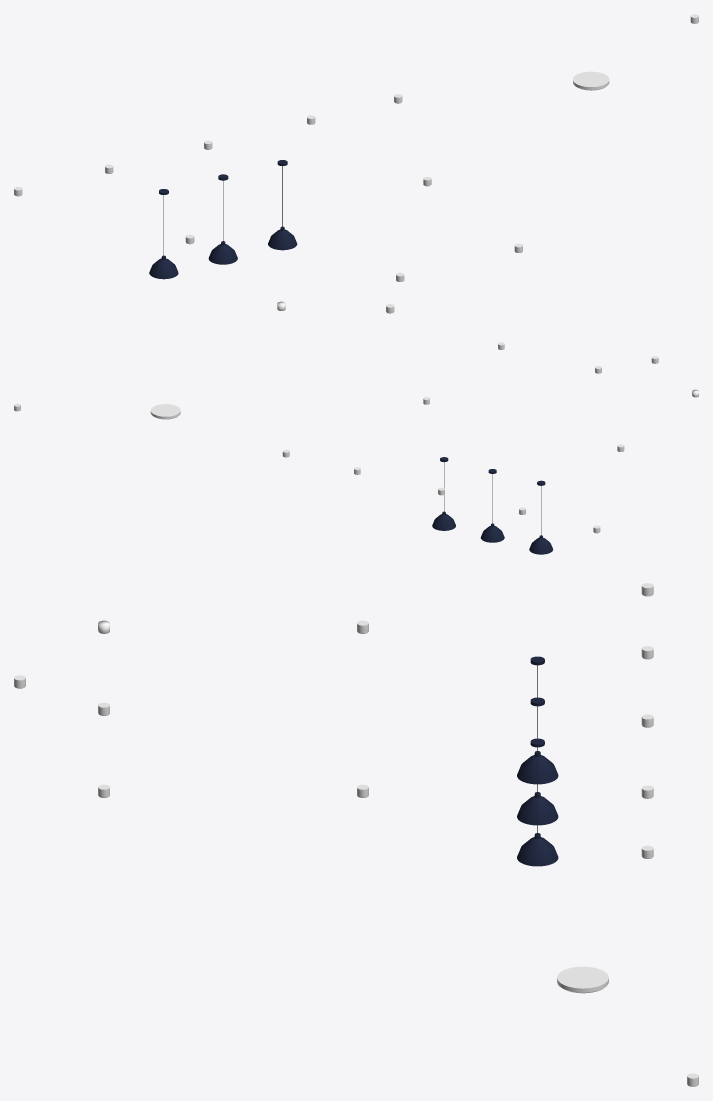
Rendered from BB_Luminarias.fbx.
The picture shows the model from 3 angles, top to bottom: view 1: azimuth 30°, elevation 25°; view 2: azimuth 150°, elevation 25°; view 3: azimuth 270°, elevation 25°; orthographic projection. The views are drawn at different scales.
Parts seen in each view (by area): view 1: Luminarias_Pendentes_Ilha, Luminarias_Spots, Luminaria_Plafon_Banheiro; view 2: Luminarias_Pendentes_Ilha, Luminarias_Spots, Luminaria_Plafon_Banheiro; view 3: Luminarias_Pendentes_Ilha, Luminarias_Spots, Luminaria_Plafon_Banheiro.
Part boxes in pixels (<box>): Luminarias_Pendentes_Ilha: <box>149,160,297,279</box>; Luminarias_Spots: <box>14,14,698,313</box>; Luminaria_Plafon_Banheiro: <box>573,71,609,90</box>; Luminarias_Pendentes_Ilha: <box>432,457,553,554</box>; Luminarias_Spots: <box>14,342,658,533</box>; Luminaria_Plafon_Banheiro: <box>150,404,180,419</box>; Luminarias_Pendentes_Ilha: <box>517,656,558,866</box>; Luminarias_Spots: <box>14,583,698,1086</box>; Luminaria_Plafon_Banheiro: <box>557,966,608,993</box>.
Size of the model in its own units: 8.84 by 1.09 by 5.29.
